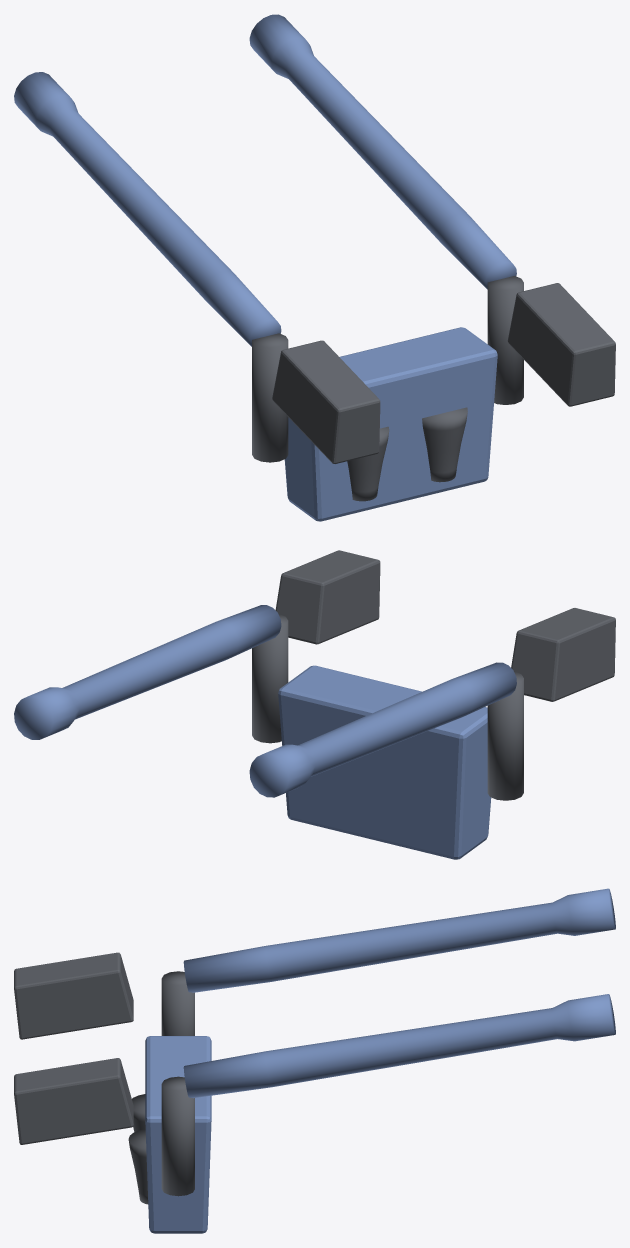
Rendered from back_heavy.glb.
3 renders of one model, top to bottom at view 1: azimuth 30°, elevation 25°; view 2: azimuth 150°, elevation 25°; view 3: azimuth 270°, elevation 25°, orthographic. The views are drawn at different scales.
Visible parts, largest first — view 1: pack, cannon_barrel.001, cannon_barrel, cannon_breech, cannon_breech.001, cannon_arm, cannon_arm.001, thruster.001, thruster; view 2: pack, cannon_barrel, cannon_barrel.001, cannon_breech.001, cannon_breech, cannon_arm, cannon_arm.001; view 3: cannon_barrel, cannon_barrel.001, pack, cannon_breech, cannon_breech.001, cannon_arm.001, cannon_arm, thruster.001.
Part boxes in pixels (x1,y1,x2,y2): pack: (284, 327, 497, 521); cannon_barrel.001: (249, 14, 516, 289); cannon_barrel: (14, 72, 281, 346); cannon_breech: (272, 340, 380, 463); cannon_breech.001: (507, 283, 615, 406); cannon_arm: (252, 333, 288, 462); cannon_arm.001: (487, 276, 523, 404); thruster.001: (422, 407, 467, 482); thruster: (347, 426, 389, 501); pack: (278, 665, 491, 859); cannon_barrel: (249, 662, 516, 797); cannon_barrel.001: (14, 605, 281, 739); cannon_breech.001: (275, 550, 380, 644); cannon_breech: (511, 608, 615, 701); cannon_arm: (487, 671, 523, 800); cannon_arm.001: (252, 614, 288, 743); cannon_barrel: (183, 888, 615, 992); cannon_barrel.001: (183, 994, 615, 1098); pack: (145, 1036, 211, 1233); cannon_breech: (14, 952, 133, 1039); cannon_breech.001: (14, 1058, 133, 1144); cannon_arm.001: (161, 1076, 194, 1196); cannon_arm: (161, 971, 194, 1035); thruster.001: (128, 1129, 148, 1204).
Bounding box in the file's own units: 6.12 × 5.72 × 12.31.
